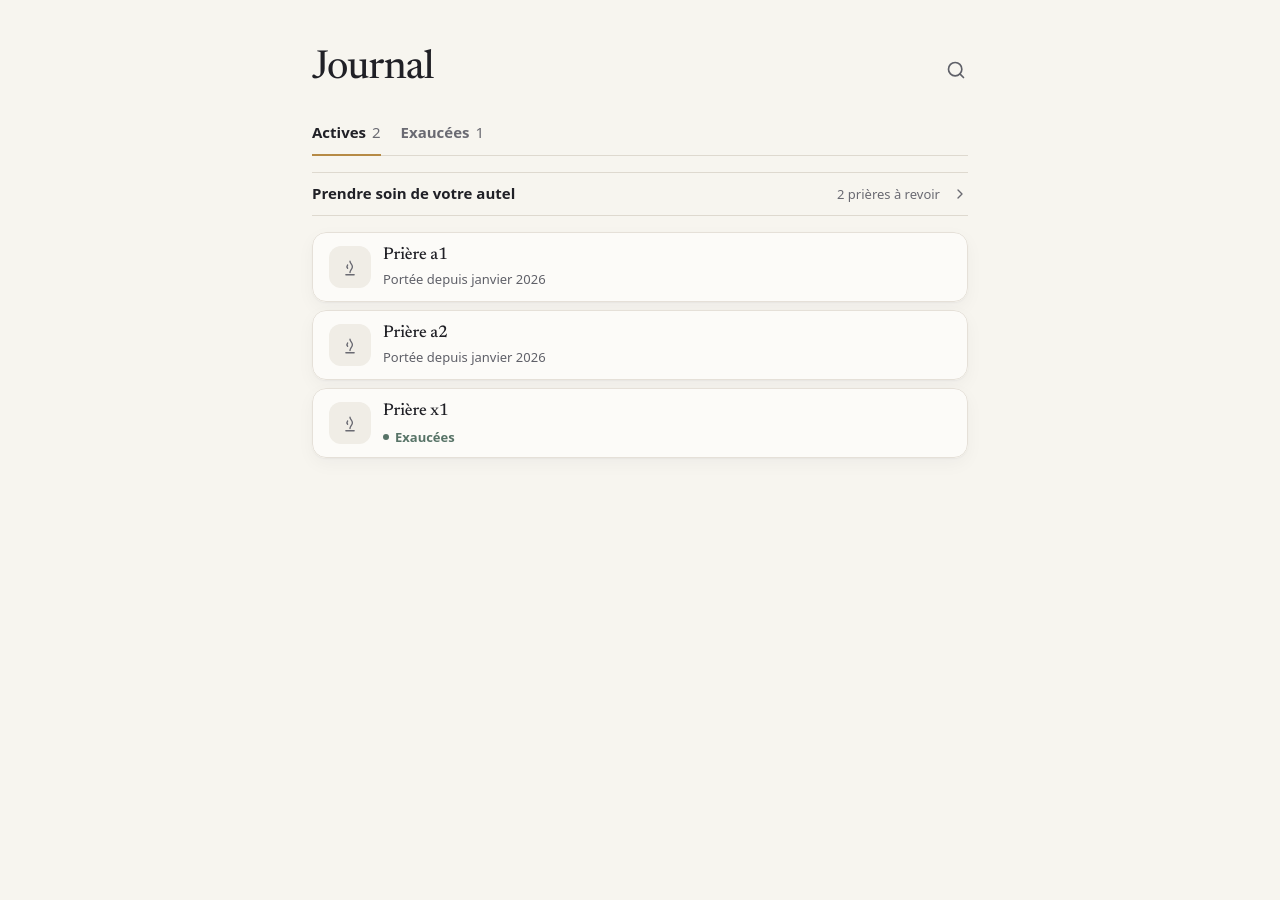
Test case: PrayersTab — simplified header › reveals journal filters only when a useful active-prayer option exists
This screenshot has width=1280, height=900.
Expected: the button "Filtrer" is not shown
Click the button named "Rechercher...": click(956, 70) top-left (934, 48), bottom-right (978, 92)
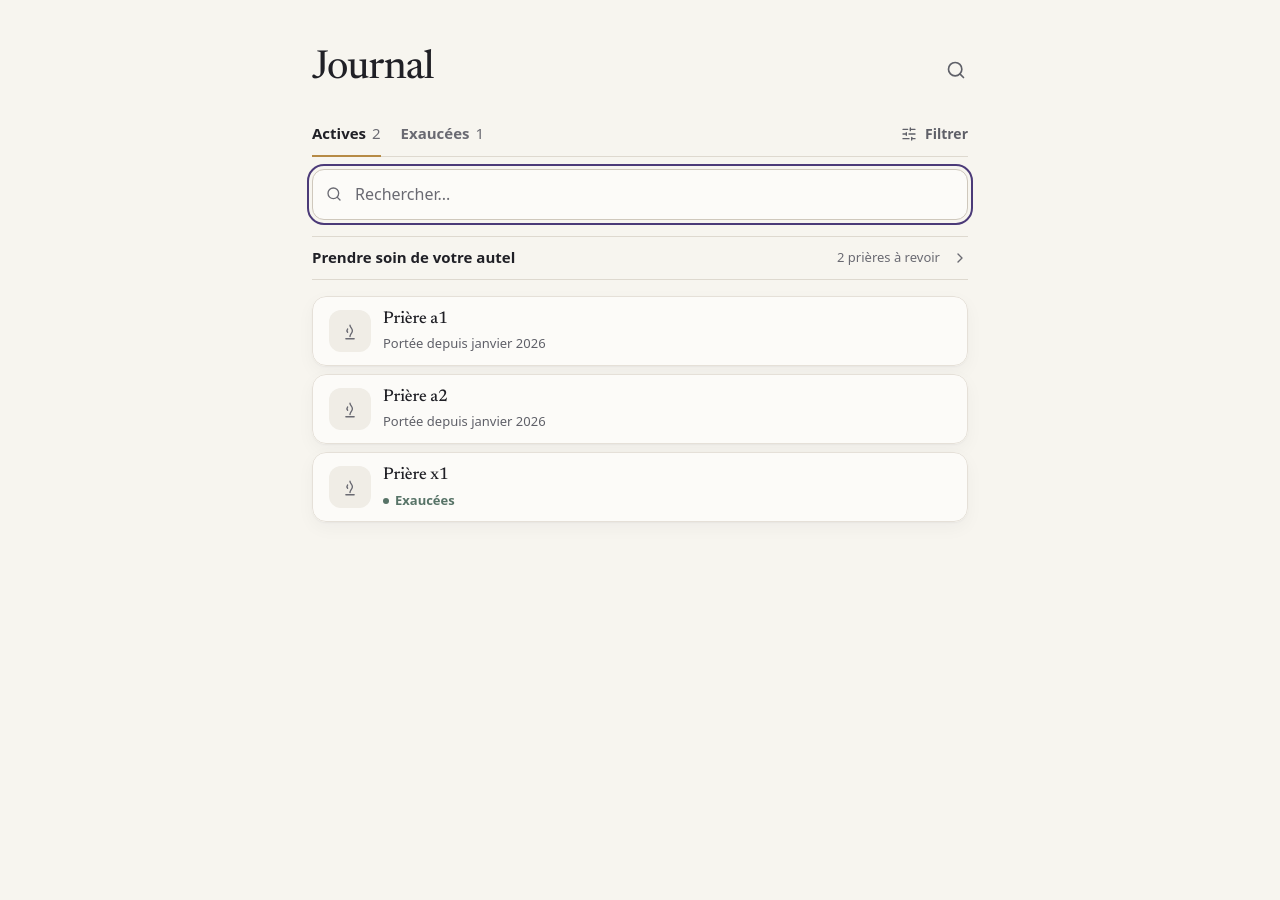
Click the button "Filtrer": click(934, 134) top-left (889, 112), bottom-right (980, 156)
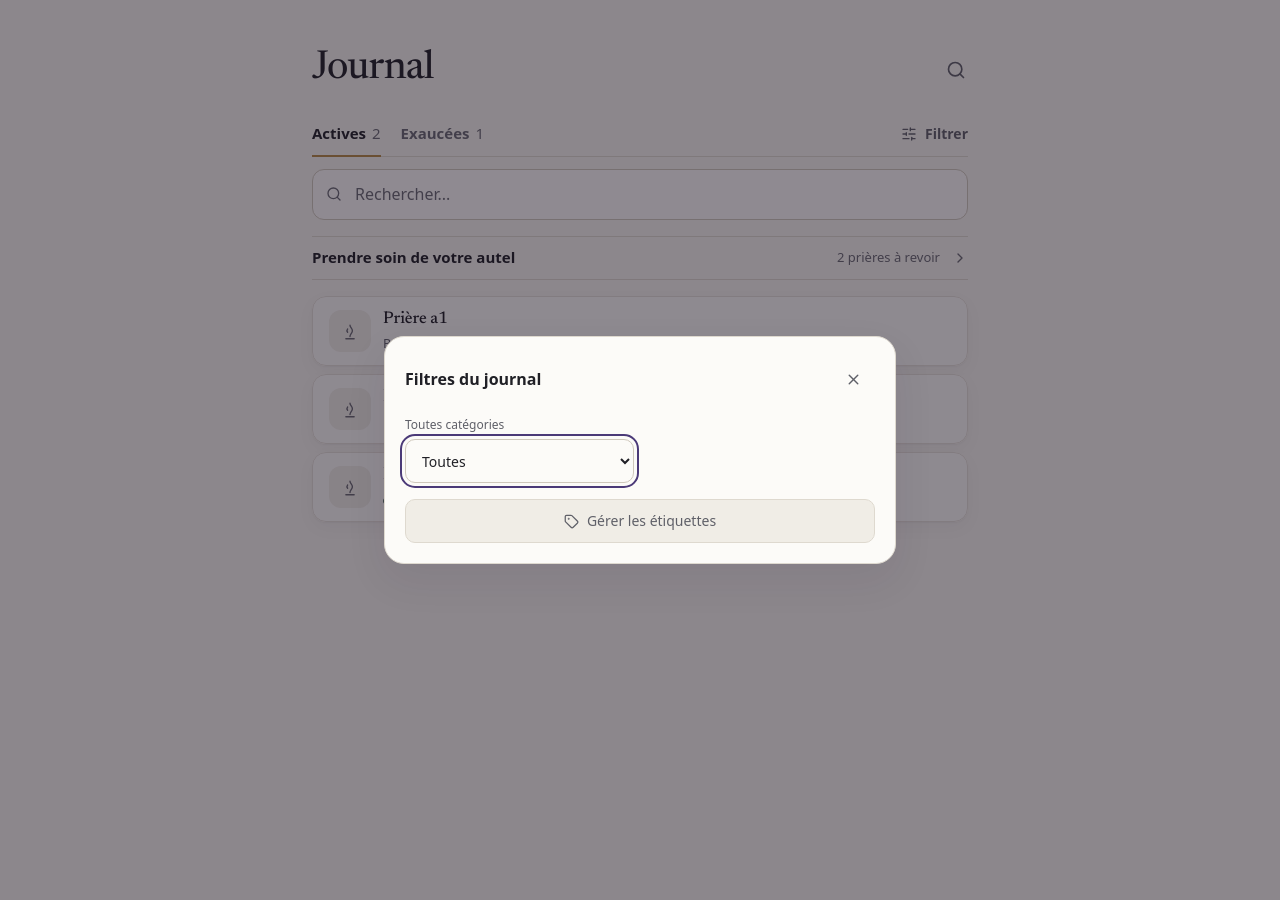
Result: the dropdown labelled "Toutes catégories" is shown at top-left (405, 439), bottom-right (634, 483)
